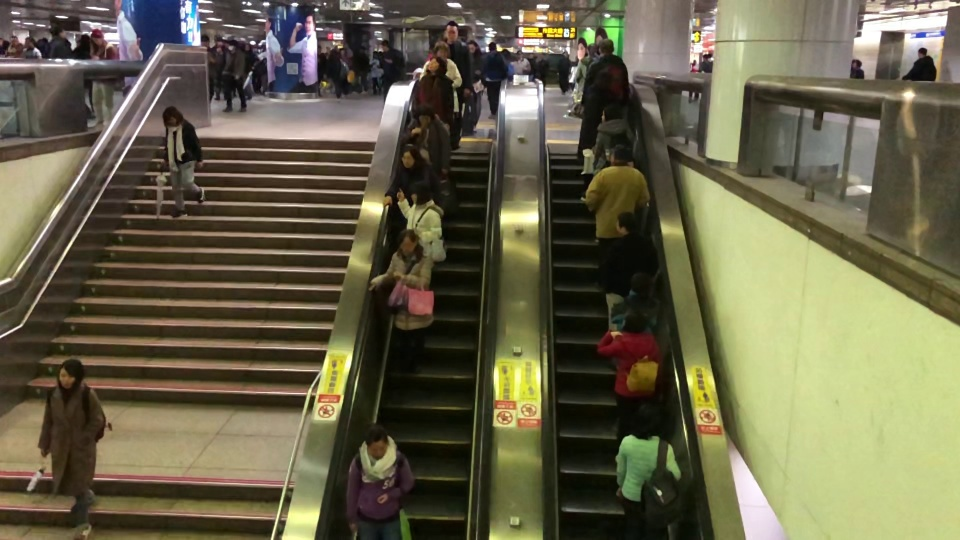person_head: (630, 402, 664, 439), (365, 422, 389, 455), (56, 358, 84, 386), (621, 308, 646, 333), (396, 228, 418, 256), (409, 180, 432, 205), (397, 143, 419, 168), (615, 210, 637, 235), (415, 102, 434, 126), (630, 272, 651, 293), (600, 103, 624, 121), (162, 105, 183, 125), (608, 144, 629, 163), (427, 56, 445, 72), (597, 68, 611, 88), (445, 21, 458, 41), (433, 43, 449, 59), (598, 37, 613, 53), (91, 30, 105, 44), (467, 40, 479, 52), (200, 34, 210, 48), (586, 43, 597, 55), (917, 46, 927, 58), (24, 36, 34, 47), (54, 27, 65, 37), (228, 39, 237, 51), (9, 35, 18, 46), (488, 41, 497, 52), (381, 39, 388, 50), (854, 59, 862, 67), (703, 53, 708, 60), (693, 59, 697, 66), (373, 51, 377, 56)
person_vbox: (36, 358, 107, 540), (584, 143, 650, 294), (367, 228, 435, 374), (615, 402, 681, 540), (344, 421, 415, 540), (596, 308, 664, 418), (601, 210, 658, 331), (575, 68, 620, 207), (592, 103, 636, 242), (161, 105, 207, 221), (444, 20, 475, 149), (383, 143, 441, 211), (400, 103, 451, 175), (610, 272, 665, 334), (581, 38, 631, 106), (419, 43, 462, 118), (396, 180, 442, 244), (89, 30, 118, 127), (415, 57, 455, 126), (483, 40, 510, 119), (220, 39, 248, 114), (467, 40, 487, 134), (380, 39, 405, 106), (900, 46, 936, 81), (199, 35, 216, 101), (575, 43, 597, 88), (49, 26, 71, 59), (369, 50, 384, 95), (687, 58, 699, 105), (6, 34, 22, 57), (24, 37, 41, 58), (850, 59, 864, 77), (702, 53, 709, 73)
